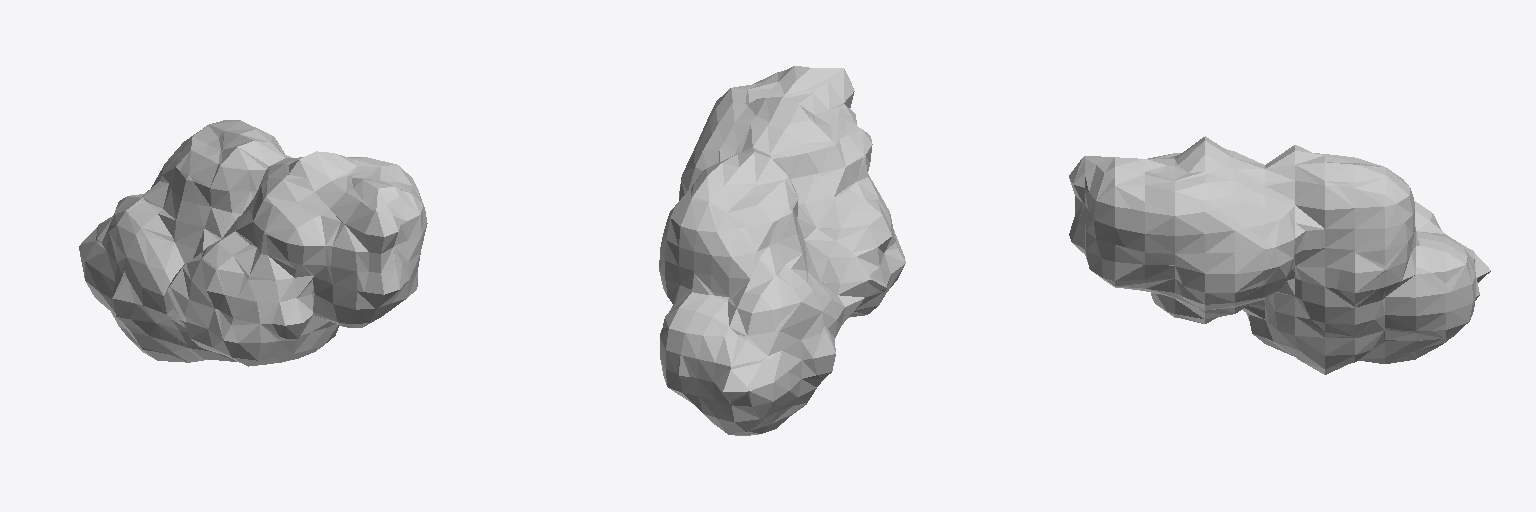
Rendered from 1c47_cms.obj.
The picture shows the model from 3 angles: view 1: azimuth 30°, elevation 25°; view 2: azimuth 150°, elevation 25°; view 3: azimuth 270°, elevation 25°; orthographic projection.
Bounding box in the file's own units: 78.53 × 89.65 × 136.